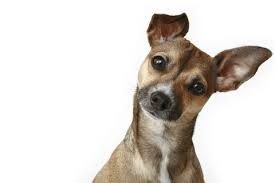chihuahua: (95, 5, 274, 179)
